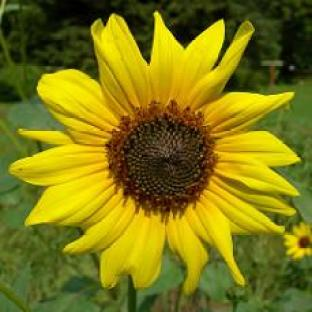sunflower: (7, 12, 300, 296)
